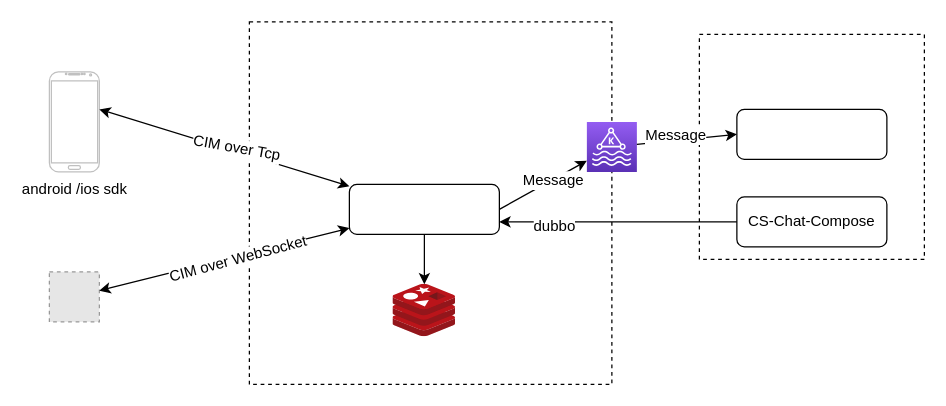
Image size: 946x406. Some labels were removed from this diagram. Grey dashed boxes stand in for pictures. Each missing label, with the centre of its shape:
CS-IM-Server: (423,208)
CS-Message-Gateway: (811,133)
